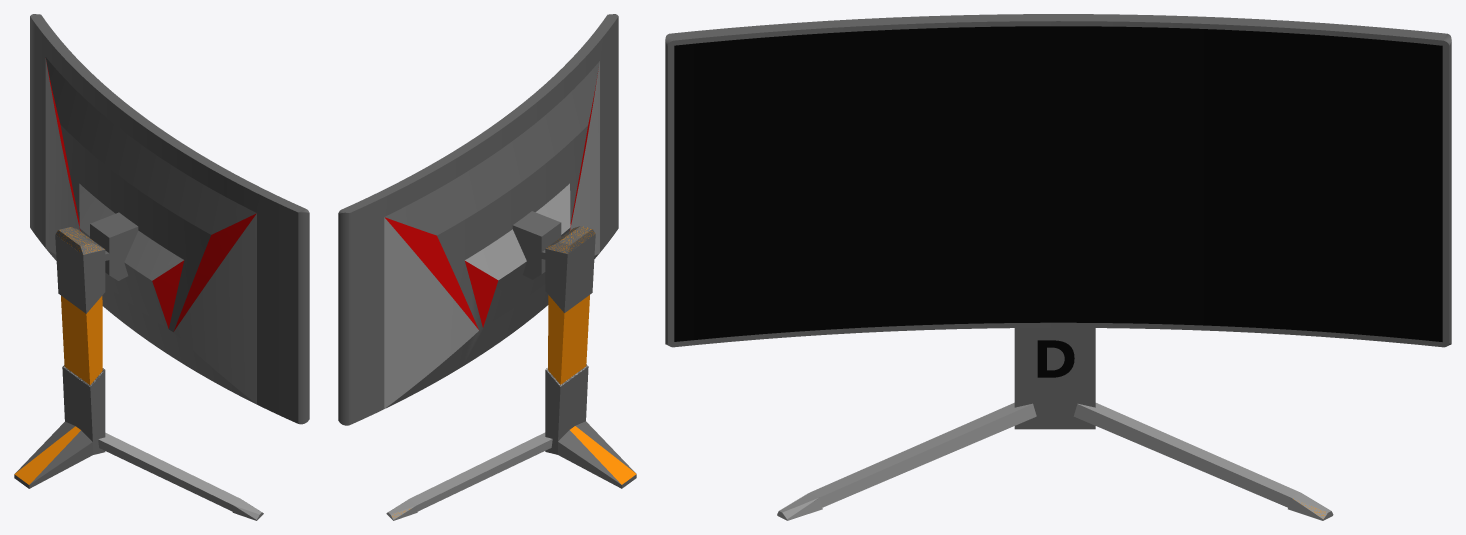
File: monitor.fbx
3 renders of one model, left to right at view 1: azimuth 30°, elevation 25°; view 2: azimuth 150°, elevation 25°; view 3: azimuth 270°, elevation 25°, orthographic. The views are drawn at different scales.
Parts seen in each view (by area): view 1: group_2, group_2.005, group_7.001, group_2.006, group_6, group_9, group_5, group_2.002, group_3, group_2.004, group_2.008, group_7.005 (+2 smaller); view 2: group_2, group_2.006, group_7.001, group_6, group_9, group_5, group_2.005, group_2.002, group_2.003, group_3, group_2.007, group_7.005 (+1 smaller); view 3: group_2.001, group_2, group_9, group_7.001, instance_0.
Part boxes in pixels (x1,y1,x2,y2): group_2: [30, 14, 309, 424]; group_2.005: [173, 213, 256, 404]; group_7.001: [14, 365, 105, 488]; group_2.006: [45, 58, 80, 254]; group_6: [61, 296, 102, 384]; group_9: [98, 432, 263, 520]; group_5: [55, 235, 105, 313]; group_2.002: [79, 183, 183, 280]; group_3: [90, 212, 138, 280]; group_2.004: [173, 213, 256, 331]; group_2.008: [152, 260, 184, 328]; group_7.005: [14, 426, 80, 484]; group_2: [338, 14, 618, 425]; group_2.006: [384, 217, 478, 408]; group_7.001: [545, 364, 636, 488]; group_6: [548, 295, 589, 384]; group_9: [386, 432, 552, 520]; group_5: [545, 234, 595, 312]; group_2.005: [570, 61, 599, 255]; group_2.002: [465, 183, 570, 280]; group_2.003: [385, 217, 478, 329]; group_3: [512, 211, 561, 279]; group_2.007: [465, 261, 498, 327]; group_7.005: [570, 426, 636, 484]; group_2.001: [674, 26, 1442, 341]; group_2: [665, 14, 1451, 347]; group_9: [777, 402, 1333, 520]; group_7.001: [1014, 327, 1095, 429]; instance_0: [1037, 340, 1074, 377].
Size of the model in its own units: 305 by 633 by 928.
